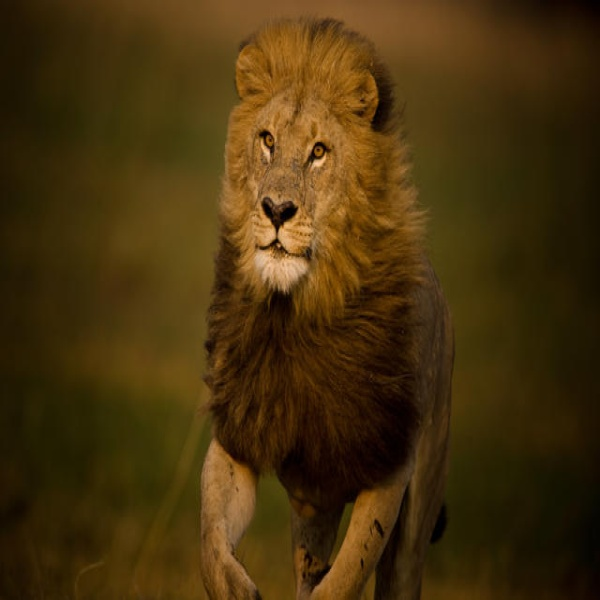Lion: (195, 17, 454, 598)
